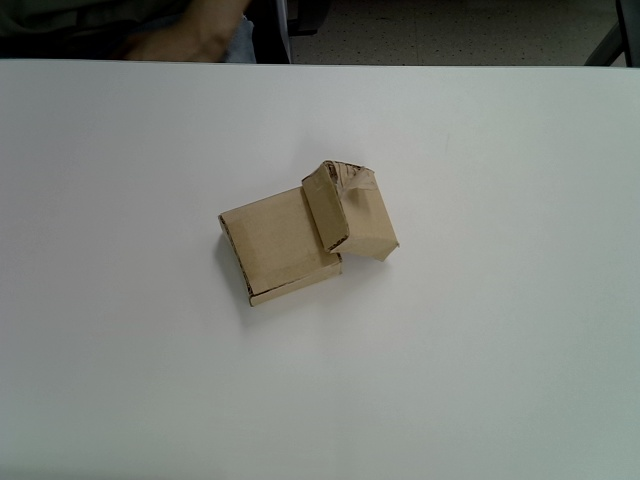defect: (301, 161, 399, 261)
normal: (218, 188, 340, 308)
